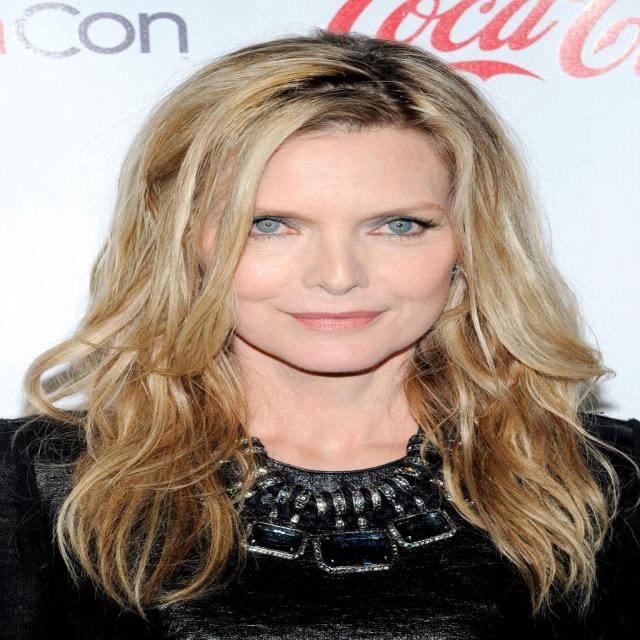Face: (189, 126, 480, 383)
